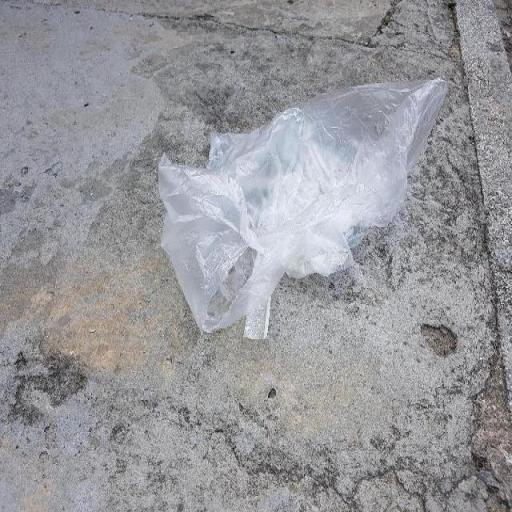plastic-bag: (154, 68, 456, 342)
